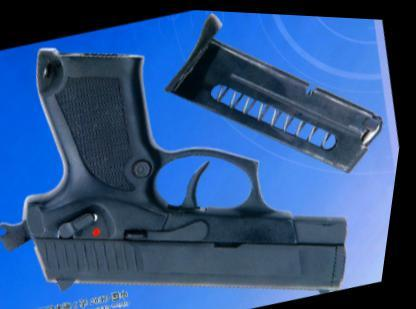pistol: (0, 0, 393, 307)
